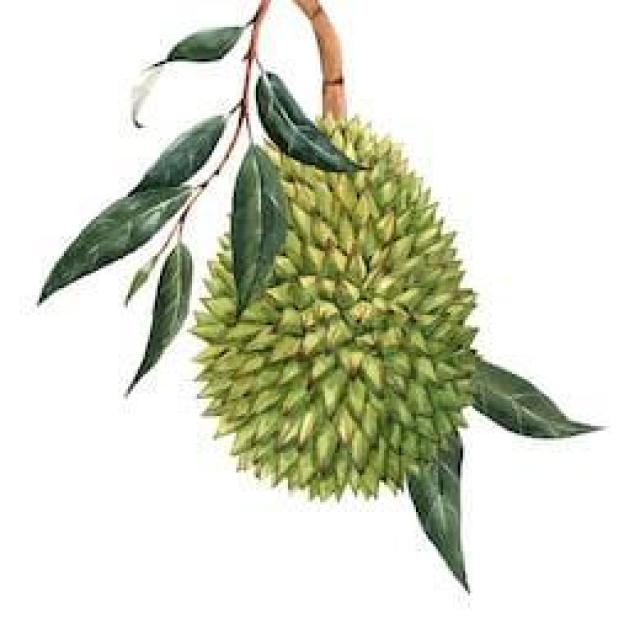immature: (187, 113, 480, 505)
